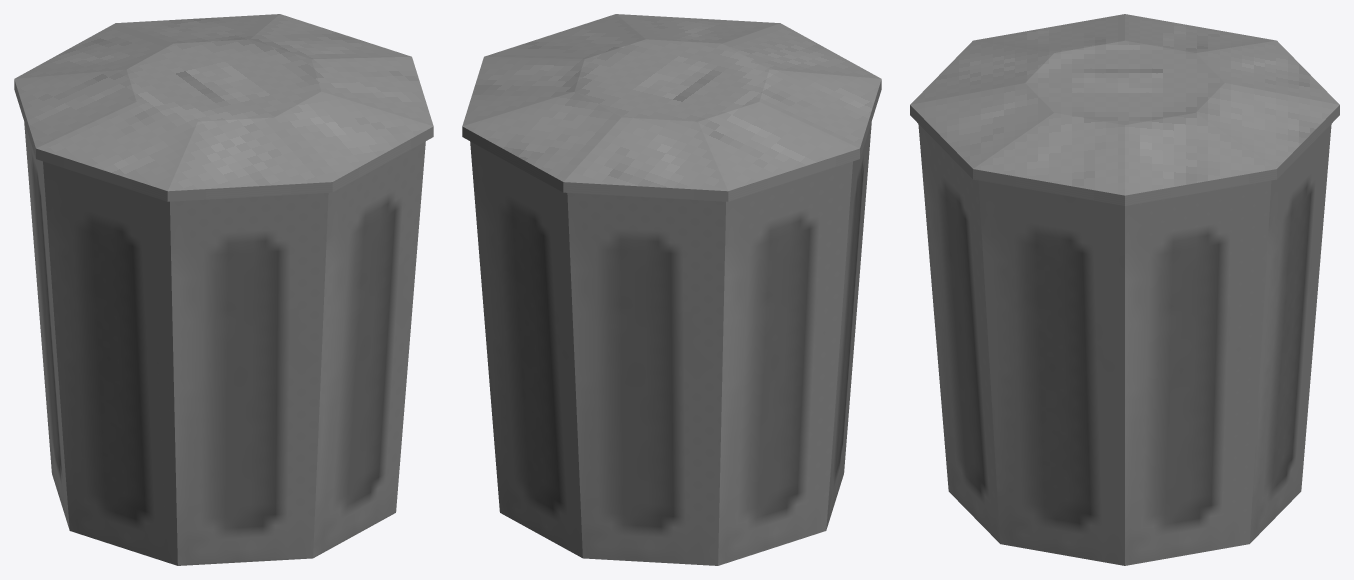
File: Garbage can.fbx
3 renders of one model, left to right at view 1: azimuth 30°, elevation 25°; view 2: azimuth 150°, elevation 25°; view 3: azimuth 270°, elevation 25°, orthographic.
Visible parts, largest first — view 1: Цилиндр, Цилиндр.001; view 2: Цилиндр, Цилиндр.001; view 3: Цилиндр, Цилиндр.001.
Boxes of the visible parts, bbox=[...] form: Цилиндр: bbox=[24, 122, 425, 565]; Цилиндр.001: bbox=[14, 14, 433, 201]; Цилиндр: bbox=[470, 122, 871, 565]; Цилиндр.001: bbox=[462, 14, 881, 201]; Цилиндр: bbox=[918, 124, 1331, 565]; Цилиндр.001: bbox=[910, 14, 1339, 205].
Bounding box in the file's own units: 62.22 × 65.25 × 62.22.
Materials: 2 (2 with a texture image).
